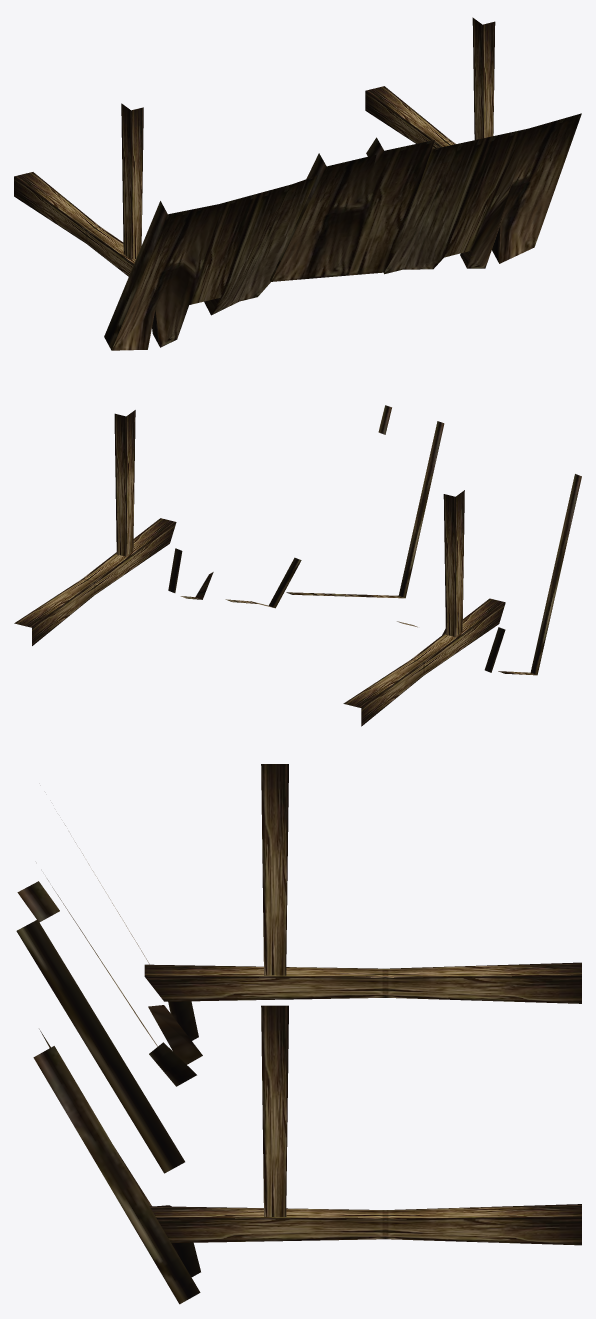
The picture shows the model from 3 angles, top to bottom: view 1: azimuth 30°, elevation 25°; view 2: azimuth 150°, elevation 25°; view 3: azimuth 270°, elevation 25°; orthographic projection. The views are drawn at different scales.
Visible parts, largest first — view 1: model_Object12; view 2: model_Object12; view 3: model_Object12.
Part boxes in pixels (box(x1,y1,x2,y2)): model_Object12: box(14, 17, 581, 350); model_Object12: box(14, 405, 581, 726); model_Object12: box(16, 764, 581, 1304).
Bounding box in the file's own units: 3.97 × 1.94 × 3.28.
Materials: 2 (2 with a texture image).
